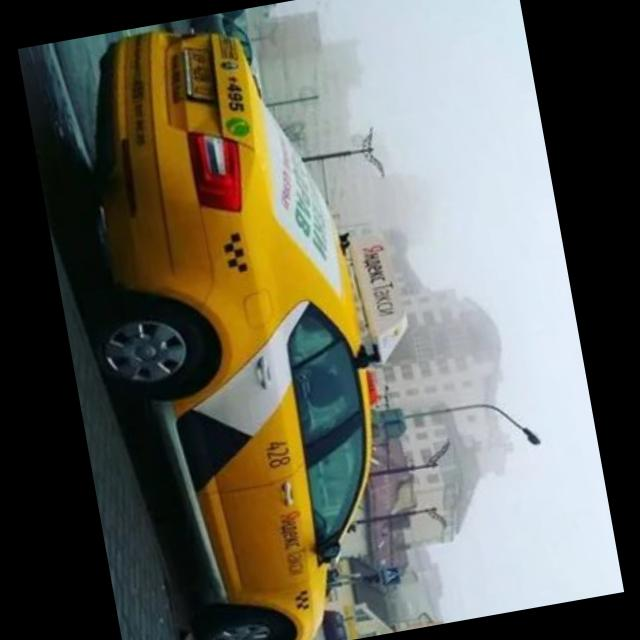taxi: (41, 1, 463, 640)
